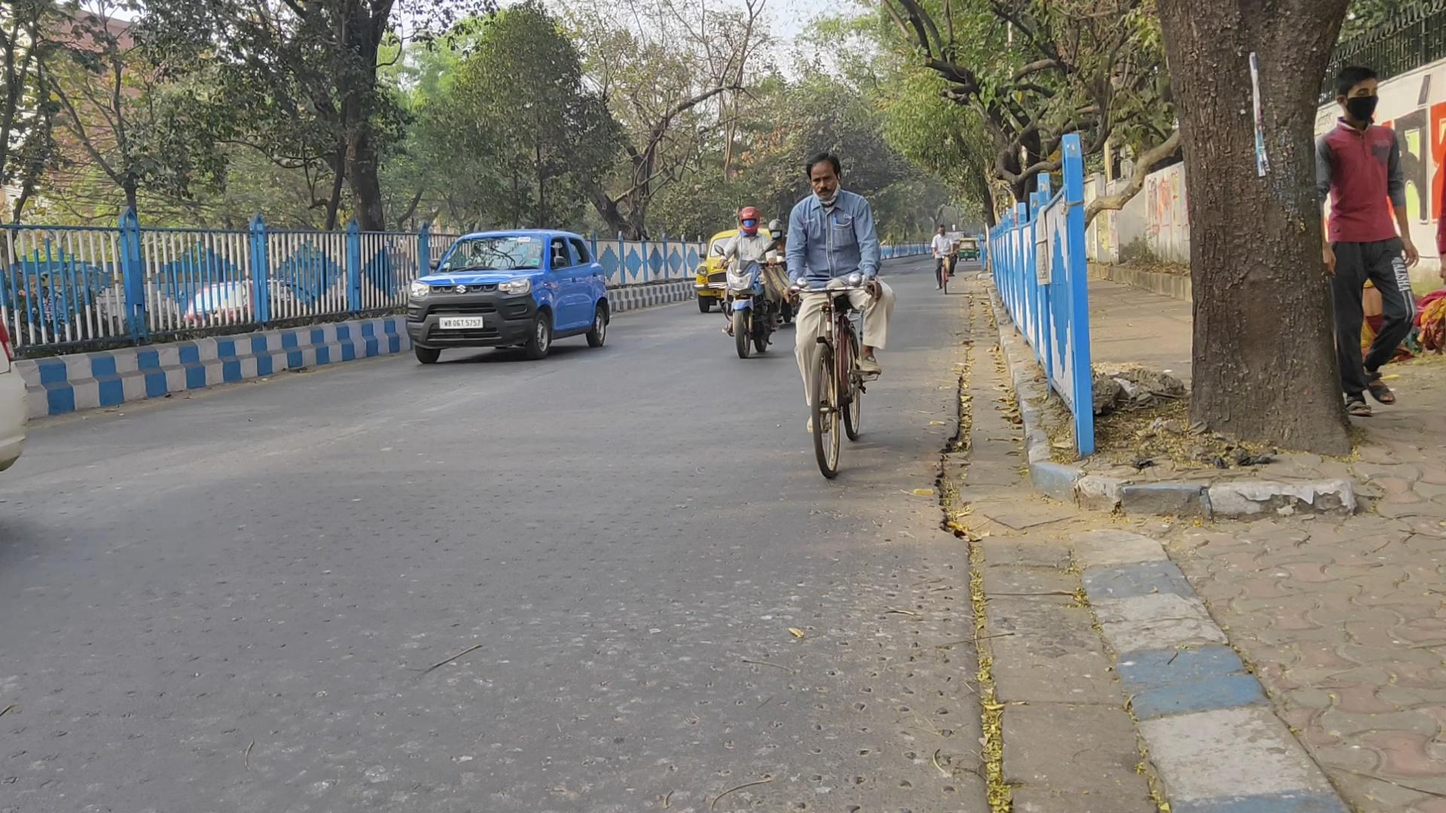Auto: (957, 237, 980, 263)
bike: (784, 154, 893, 478), (713, 206, 772, 360), (931, 220, 956, 298)
car: (405, 229, 611, 364)
